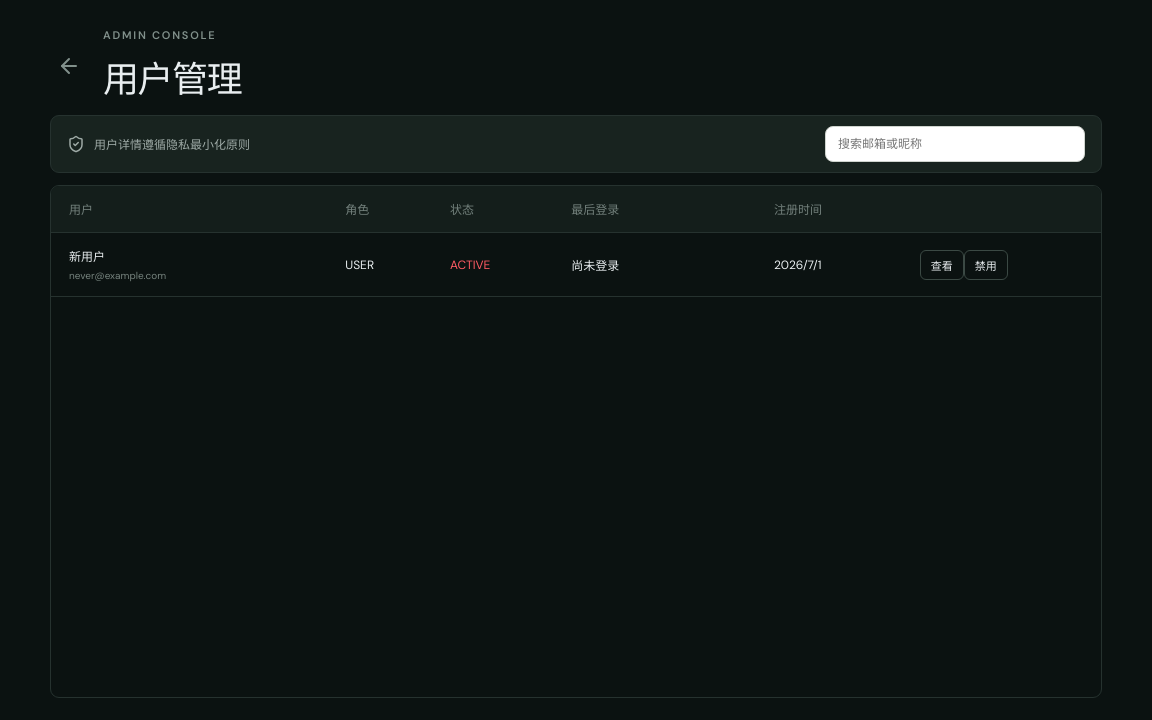
Test case: AdminPanel › 进入详情后所有请求都绑定选中 userId 且不展示隐私字段
Click the button with aria-label "查看 新用户": (942, 264) [920, 250, 964, 280]
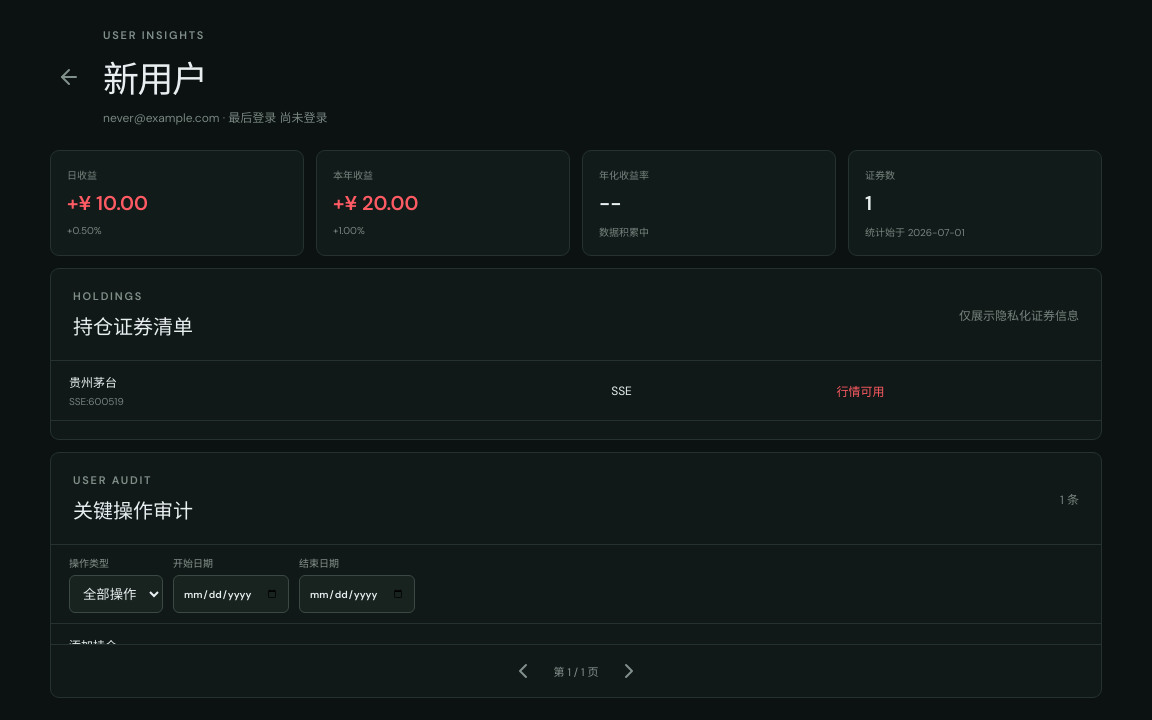
Expected: the text "贵州茅台" is shown, [69, 375, 117, 391]
